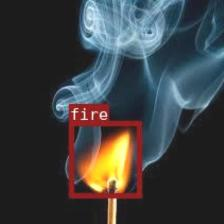fire: (68, 120, 140, 197)
